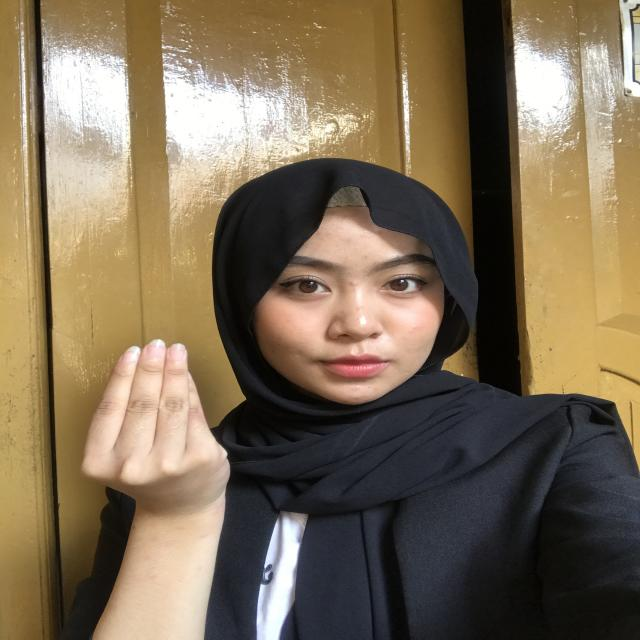kapan: (52, 325, 251, 591)
